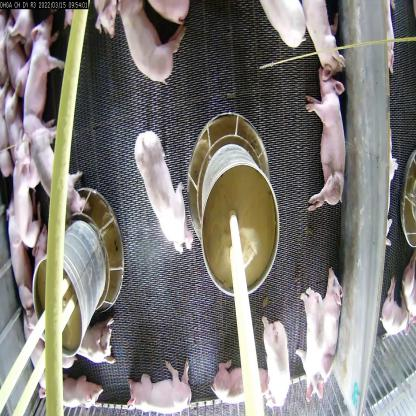Pig: (132, 114, 194, 255), (305, 63, 352, 212), (28, 118, 89, 224), (109, 0, 181, 85), (21, 18, 65, 139), (9, 128, 44, 250), (124, 359, 196, 414), (260, 308, 298, 412), (298, 0, 354, 67), (298, 282, 328, 406), (40, 373, 104, 409), (324, 256, 342, 372)
